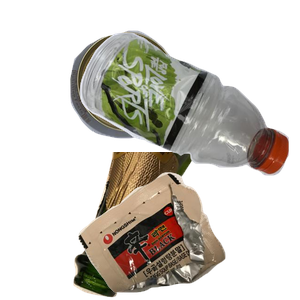glass: (71, 152, 260, 300)
metal: (68, 28, 237, 159)
plastic: (77, 30, 300, 198)
trash: (76, 170, 300, 300)
